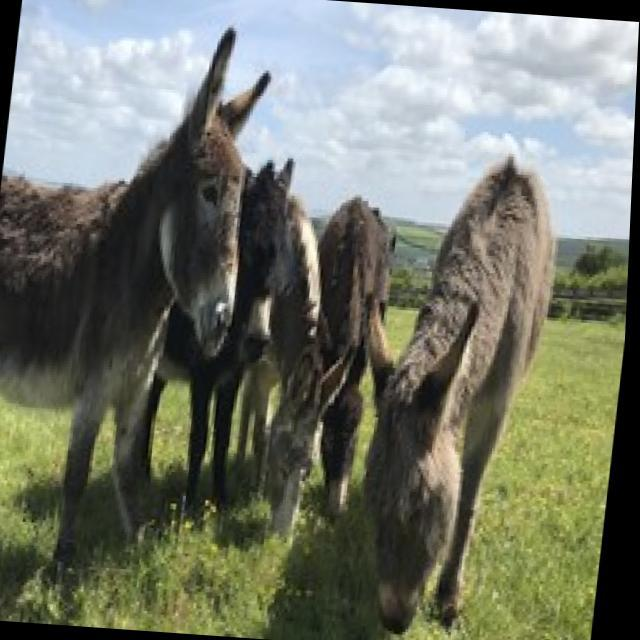Donkey: (0, 6, 277, 586), (334, 142, 570, 640), (131, 147, 301, 520), (288, 189, 402, 525), (244, 191, 345, 538), (207, 152, 300, 500)
